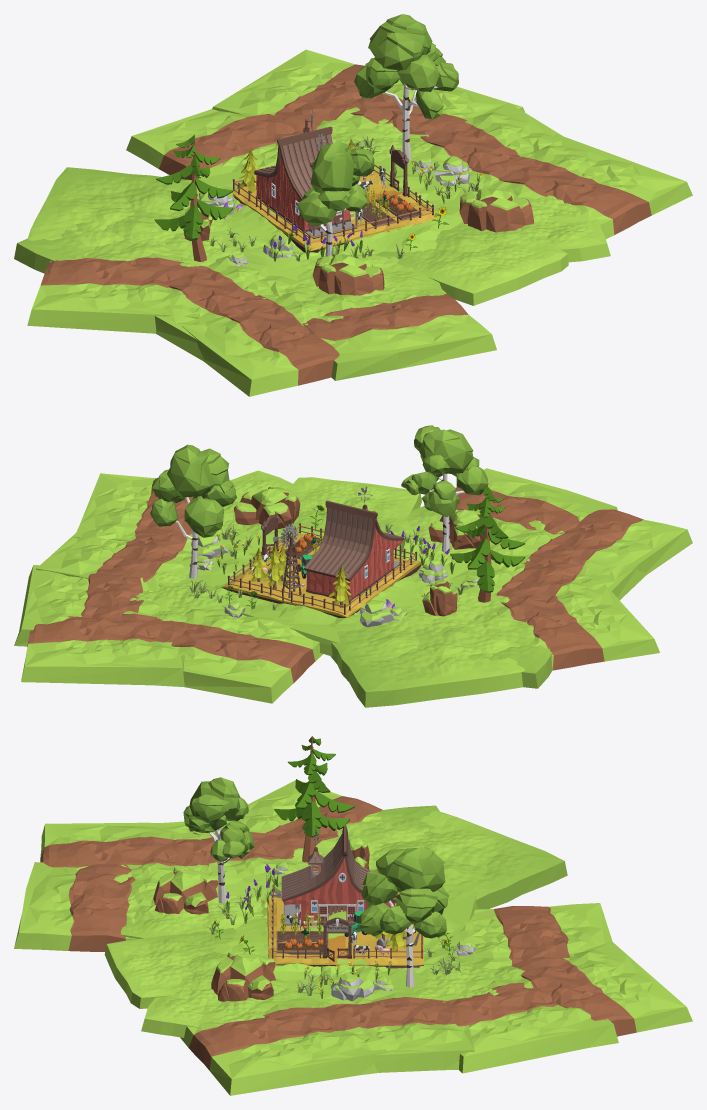
File: farm+forest.glb
3 renders of one model, top to bottom at view 1: azimuth 30°, elevation 25°; view 2: azimuth 150°, elevation 25°; view 3: azimuth 270°, elevation 25°, orthographic. The views are drawn at different scales.
Parts seen in each view (by area): view 1: Text.001; view 2: Text.001; view 3: Text.001.
Part boxes in pixels (<box>): Text.001: <box>14,14,692,396</box>; Text.001: <box>14,425,692,707</box>; Text.001: <box>14,736,692,1095</box>.
Bounding box in the file's own units: 132 × 31.88 × 125.
16 materials, 16 textured.
